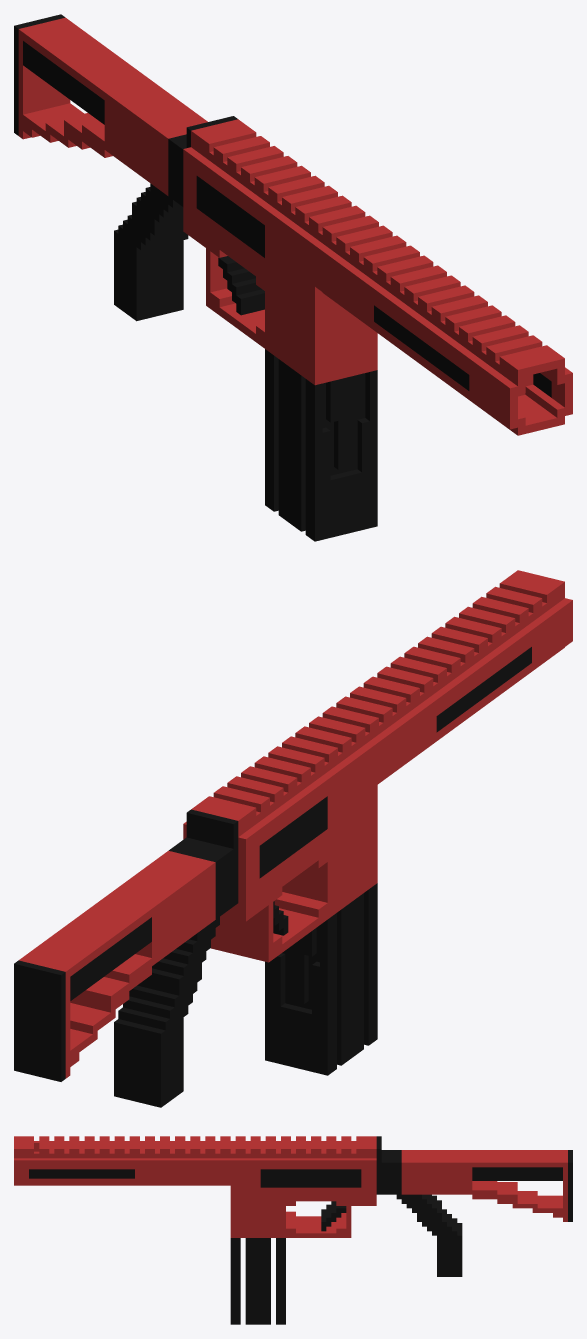
The model's file is Rifle 2.obj.
The picture shows the model from 3 angles, top to bottom: view 1: azimuth 30°, elevation 25°; view 2: azimuth 150°, elevation 25°; view 3: azimuth 270°, elevation 25°; orthographic projection. The views are drawn at different scales.
Size of the model in its own units: 0.8 by 3.8 by 11.1.
Materials: 1 (1 with a texture image).
